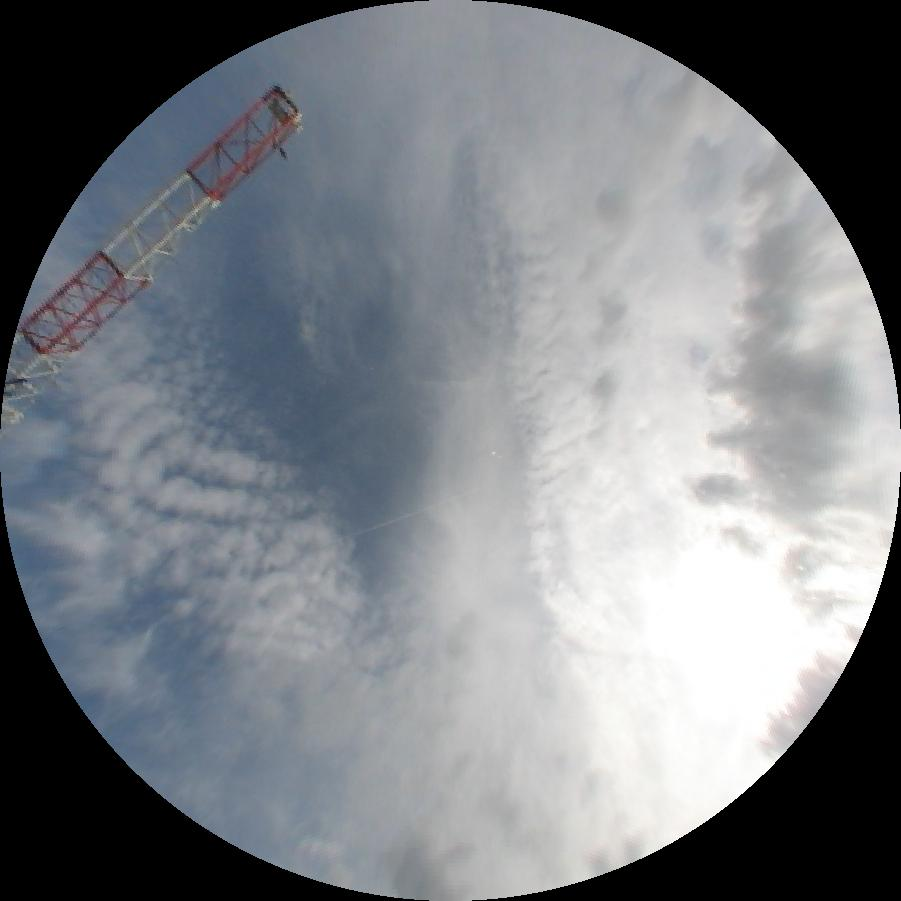contrail young: (341, 486, 478, 540)
sun: (643, 539, 809, 720)
